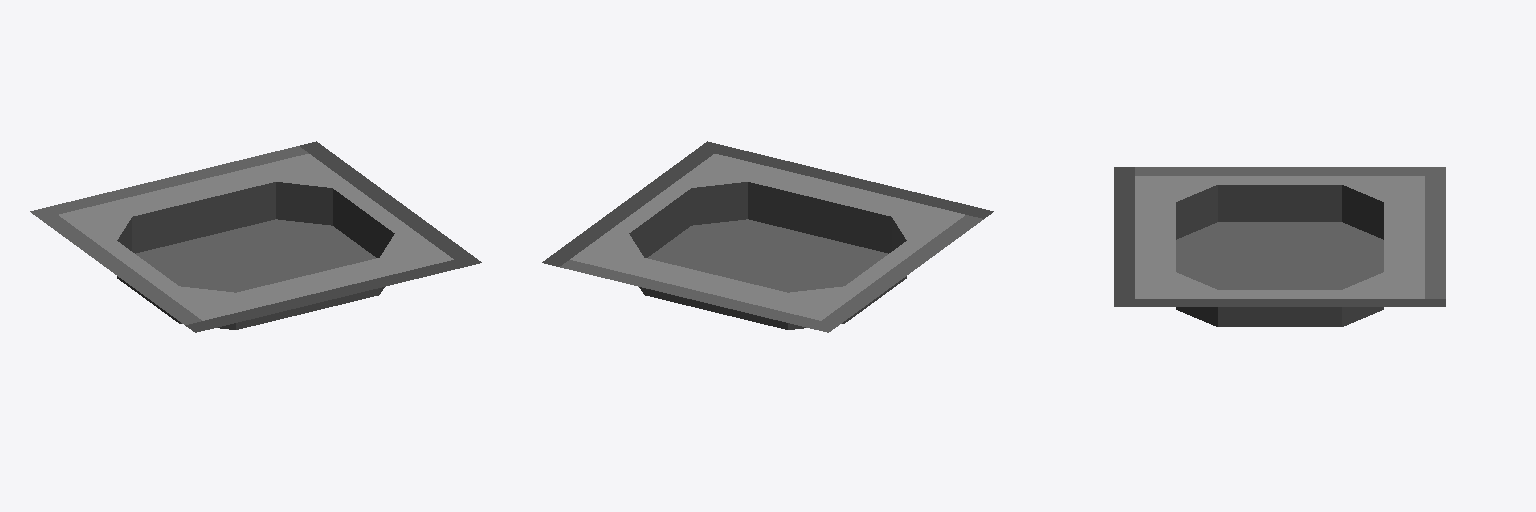
The model's file is SwitchDown.obj.
The picture shows the model from 3 angles: view 1: azimuth 30°, elevation 25°; view 2: azimuth 150°, elevation 25°; view 3: azimuth 270°, elevation 25°; orthographic projection.
Visible parts, largest first — view 1: SwitchDown_obj_1; view 2: SwitchDown_obj_1; view 3: SwitchDown_obj_1.
Part boxes in pixels (left/top/right/bottom): SwitchDown_obj_1: left=30, top=141, right=481, bottom=332; SwitchDown_obj_1: left=542, top=141, right=993, bottom=332; SwitchDown_obj_1: left=1114, top=167, right=1445, bottom=326.
Bounding box in the file's own units: 8 × 1 × 8.